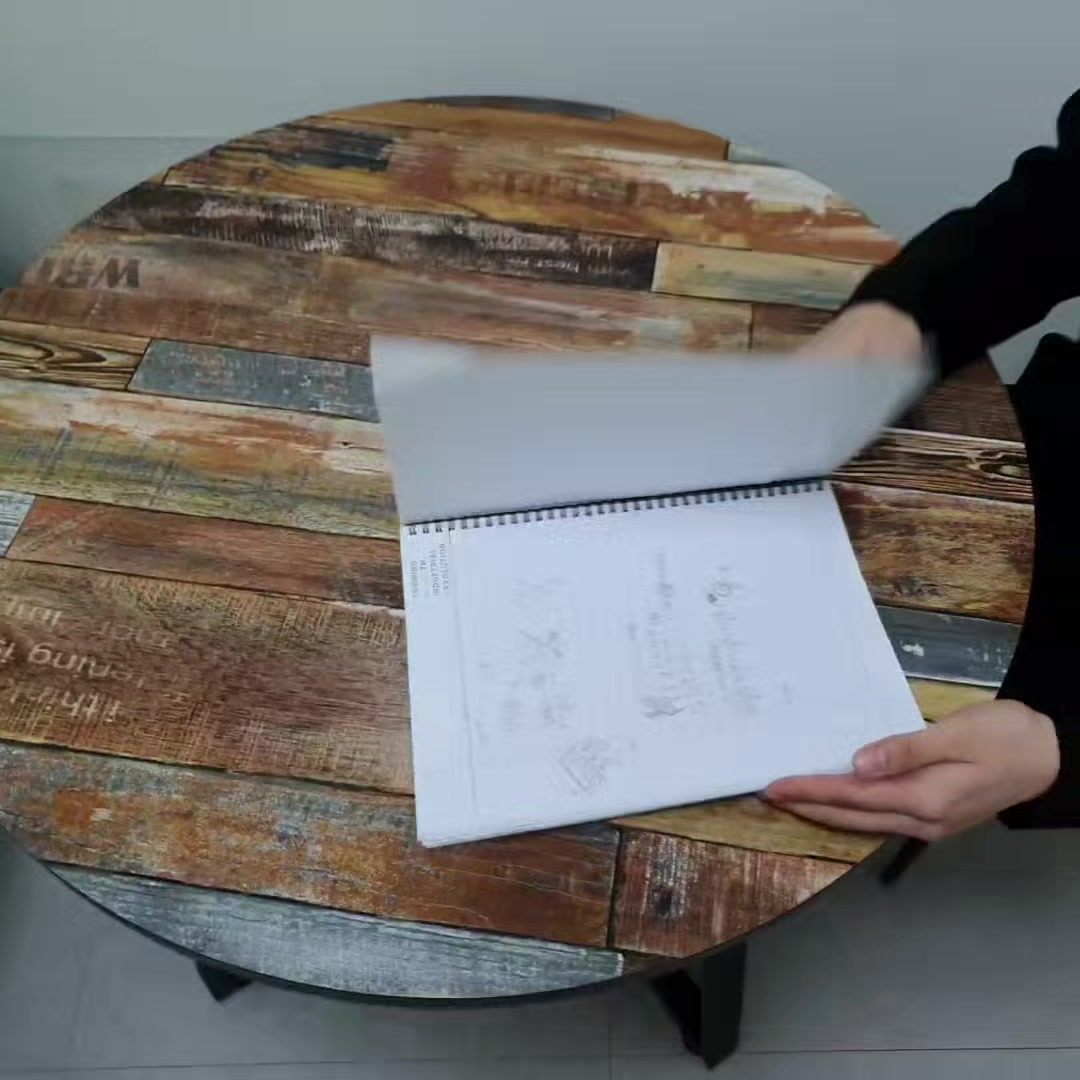book: (353, 311, 953, 845)
